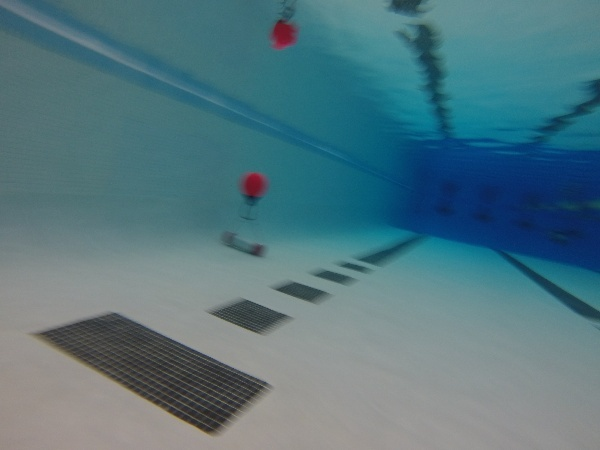buoy_red: (238, 170, 271, 210)
